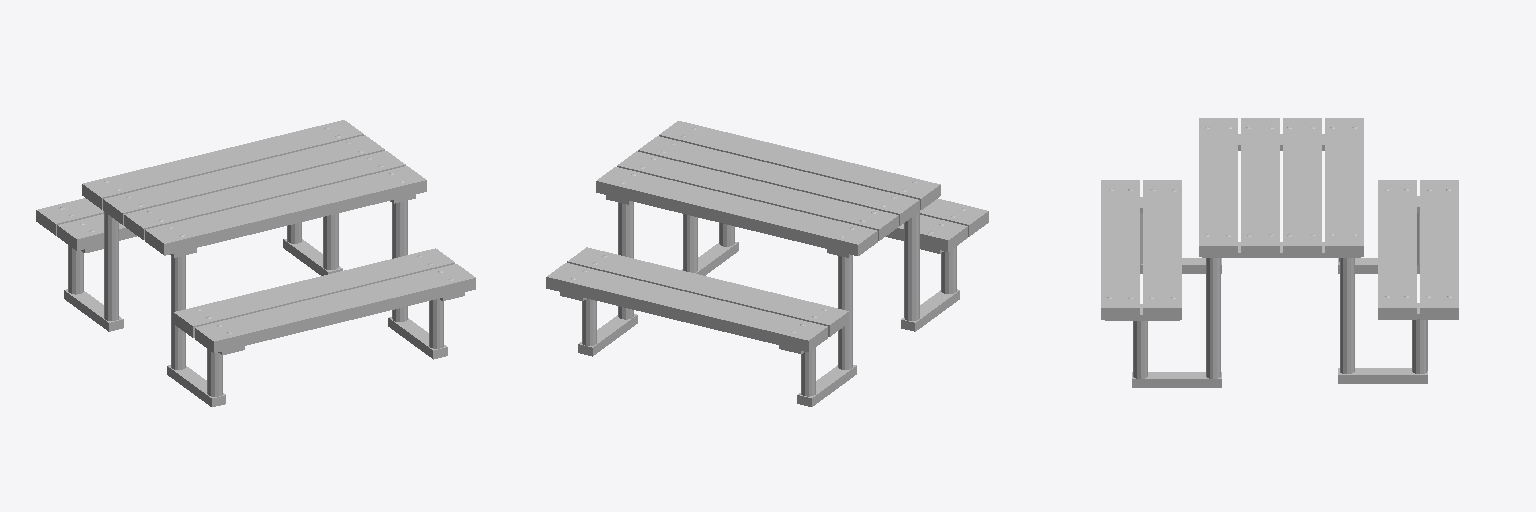
The picture shows the model from 3 angles: view 1: azimuth 30°, elevation 25°; view 2: azimuth 150°, elevation 25°; view 3: azimuth 270°, elevation 25°; orthographic projection.
Parts seen in each view (by area): view 1: group[number redacted], group[number redacted], group[number redacted], group[number redacted], group[number redacted], group[number redacted], group[number redacted], group[number redacted], group[number redacted], group[number redacted], group[number redacted], group[number redacted] (+7 smaller); view 2: group[number redacted], group[number redacted], group[number redacted], group[number redacted], group[number redacted], group[number redacted], group[number redacted], group[number redacted], group[number redacted], group[number redacted], group[number redacted], group[number redacted] (+7 smaller); view 3: group[number redacted], group[number redacted], group[number redacted], group[number redacted], group[number redacted], group[number redacted], group[number redacted], group[number redacted], group[number redacted], group[number redacted], group[number redacted], group[number redacted] (+2 smaller).
Boxes of the visible parts, x1,y1,x2,y2 form: group[number redacted]: [145, 166, 426, 255]; group[number redacted]: [195, 264, 475, 352]; group[number redacted]: [103, 135, 384, 224]; group[number redacted]: [82, 120, 363, 209]; group[number redacted]: [174, 248, 454, 337]; group[number redacted]: [124, 151, 405, 239]; group[number redacted]: [104, 212, 118, 320]; group[number redacted]: [171, 255, 185, 369]; group[number redacted]: [57, 214, 136, 250]; group[number redacted]: [36, 198, 103, 235]; group[number redacted]: [392, 200, 407, 321]; group[number redacted]: [388, 317, 447, 359]; group[number redacted]: [546, 263, 827, 351]; group[number redacted]: [596, 167, 877, 255]; group[number redacted]: [659, 121, 940, 209]; group[number redacted]: [617, 151, 898, 240]; group[number redacted]: [638, 136, 919, 225]; group[number redacted]: [567, 247, 848, 336]; group[number redacted]: [904, 212, 919, 320]; group[number redacted]: [838, 256, 852, 369]; group[number redacted]: [886, 215, 967, 251]; group[number redacted]: [920, 199, 988, 236]; group[number redacted]: [618, 202, 633, 319]; group[number redacted]: [797, 365, 856, 406]; group[number redacted]: [1101, 180, 1139, 319]; group[number redacted]: [1378, 180, 1416, 319]; group[number redacted]: [1420, 180, 1458, 319]; group[number redacted]: [1143, 180, 1181, 319]; group[number redacted]: [1241, 118, 1279, 256]; group[number redacted]: [1325, 118, 1363, 256]; group[number redacted]: [1283, 118, 1321, 256]; group[number redacted]: [1199, 118, 1237, 256]; group[number redacted]: [1206, 258, 1220, 378]; group[number redacted]: [1340, 258, 1354, 373]; group[number redacted]: [1338, 368, 1427, 383]; group[number redacted]: [1132, 372, 1221, 387].
Size of the model in its own units: 4 by 2.16 by 4.69.